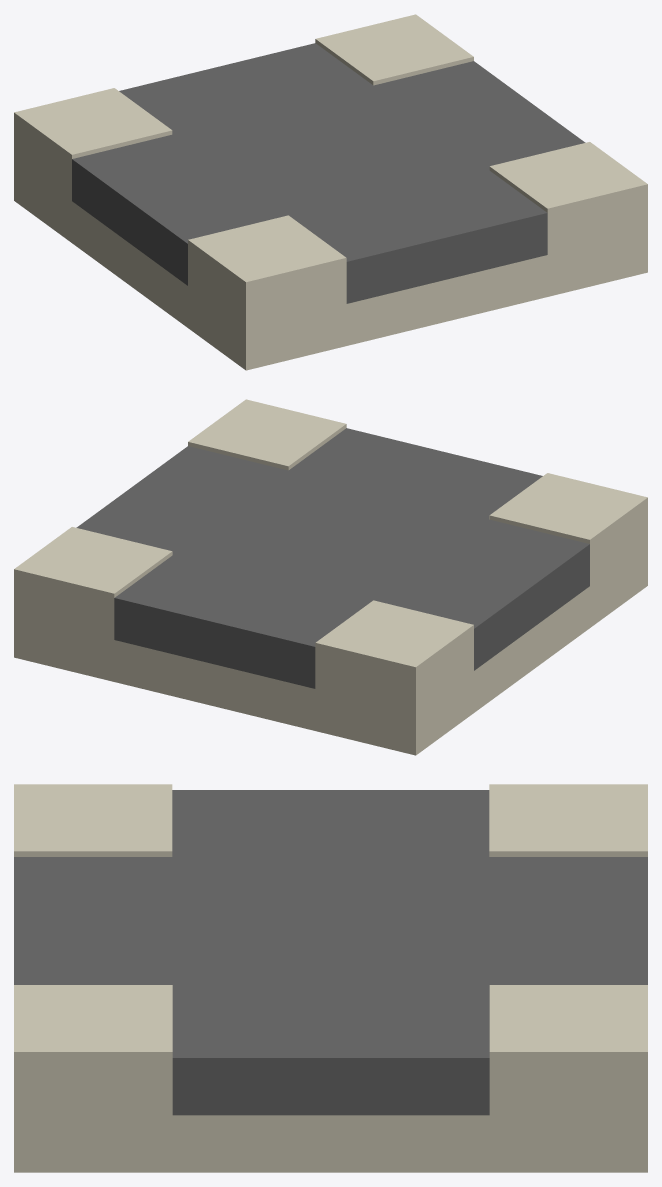
Rendered from tile021.obj.
3 renders of one model, top to bottom at view 1: azimuth 30°, elevation 25°; view 2: azimuth 150°, elevation 25°; view 3: azimuth 270°, elevation 25°, orthographic. The views are drawn at different scales.
Visible parts, largest first — view 1: tile021; view 2: tile021; view 3: tile021.
Part boxes in pixels (x1,y1,x2,y2): tile021: (14,14,647,370); tile021: (14,399,647,755); tile021: (14,784,647,1172).
Size of the model in its own units: 1 by 0.21 by 1.
